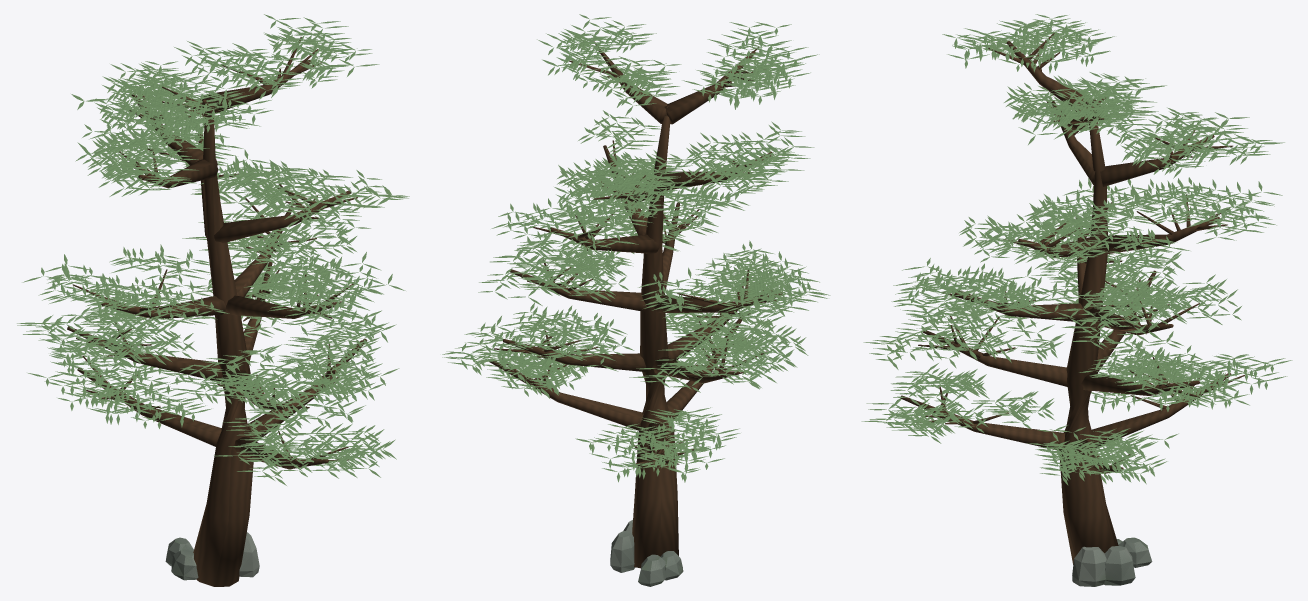
File: v01_pine_0.fbx
3 views of the same model, side by side, from view 1: azimuth 30°, elevation 25°; view 2: azimuth 150°, elevation 25°; view 3: azimuth 270°, elevation 25° (orthographic). The views are drawn at different scales.
Visible parts, largest first — view 1: v01_pine_0.003; view 2: v01_pine_0.003; view 3: v01_pine_0.003.
Part boxes in pixels (<box>): v01_pine_0.003: <box>17,14,409,586</box>; v01_pine_0.003: <box>442,14,830,586</box>; v01_pine_0.003: <box>861,14,1292,586</box>.
Size of the model in its own units: 48259 by 46573 by 63234.
